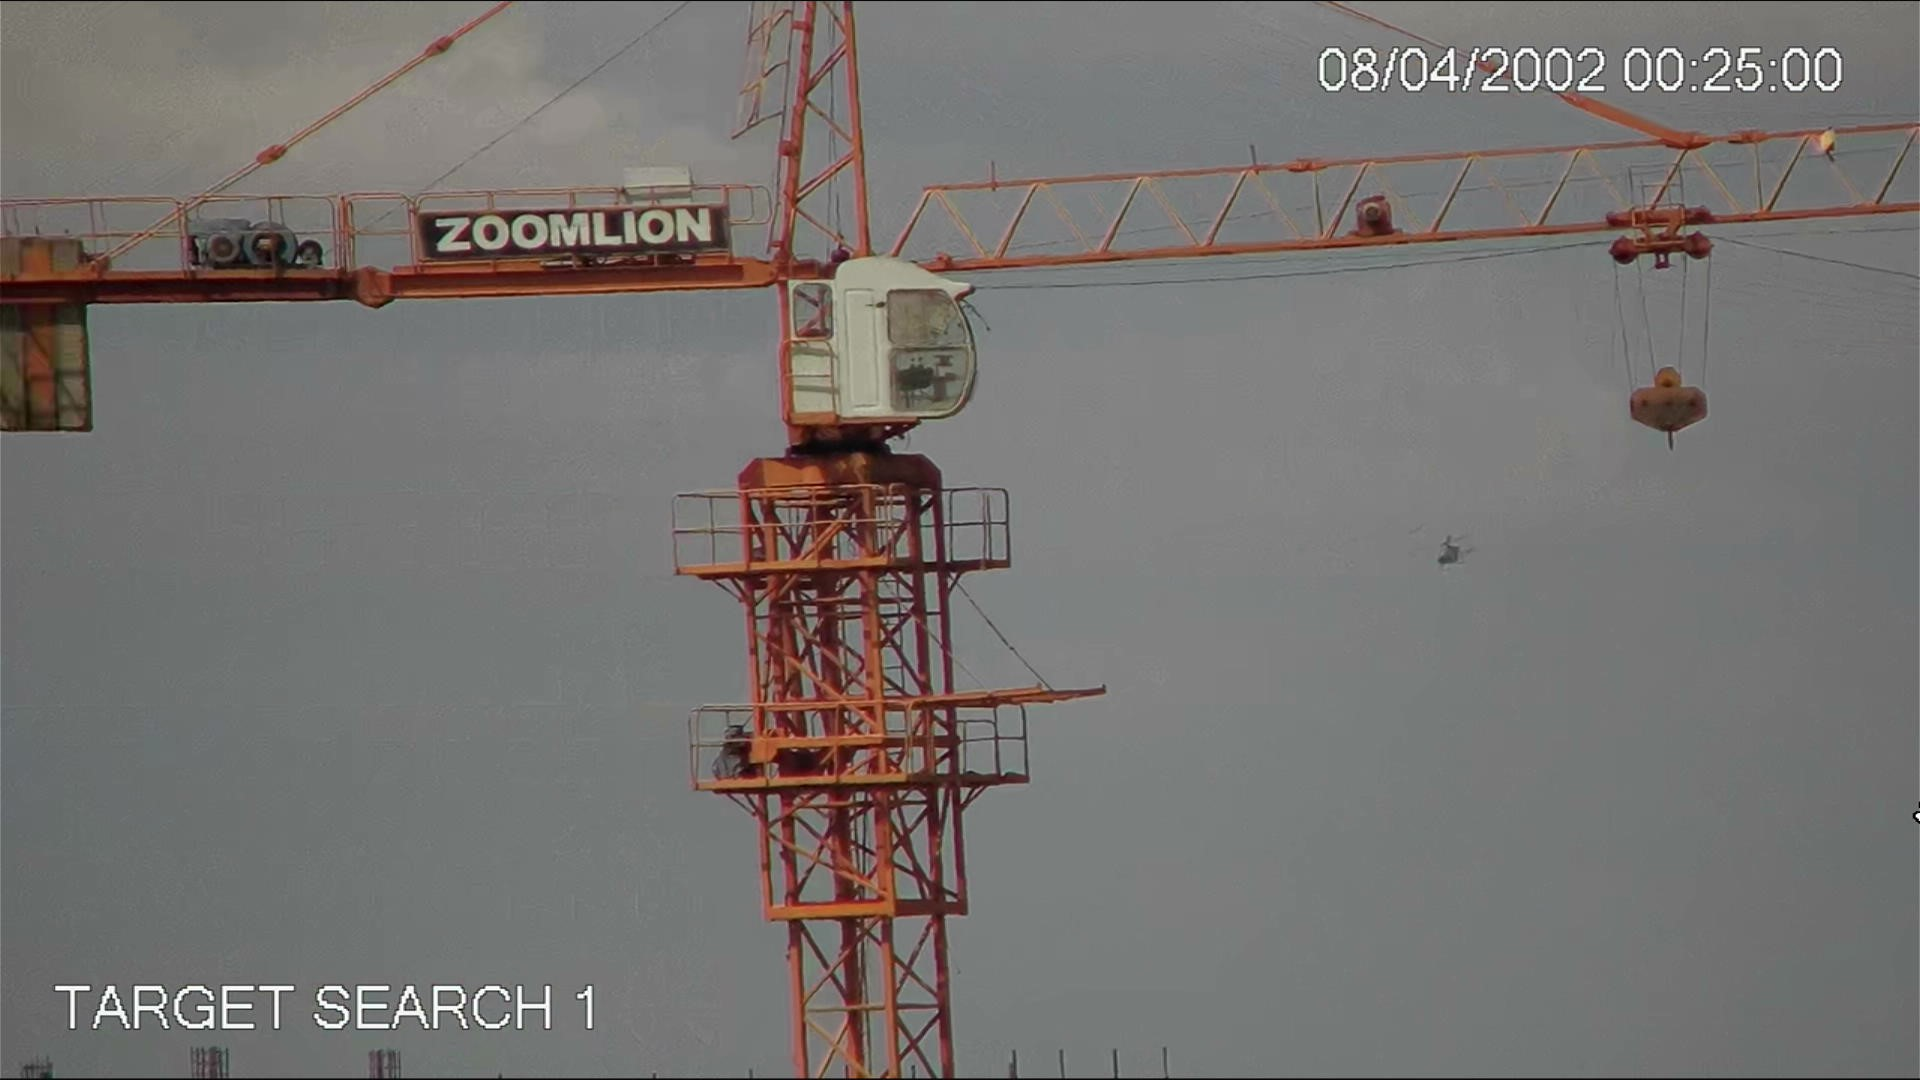SU_30: (1425, 527, 1480, 574)
